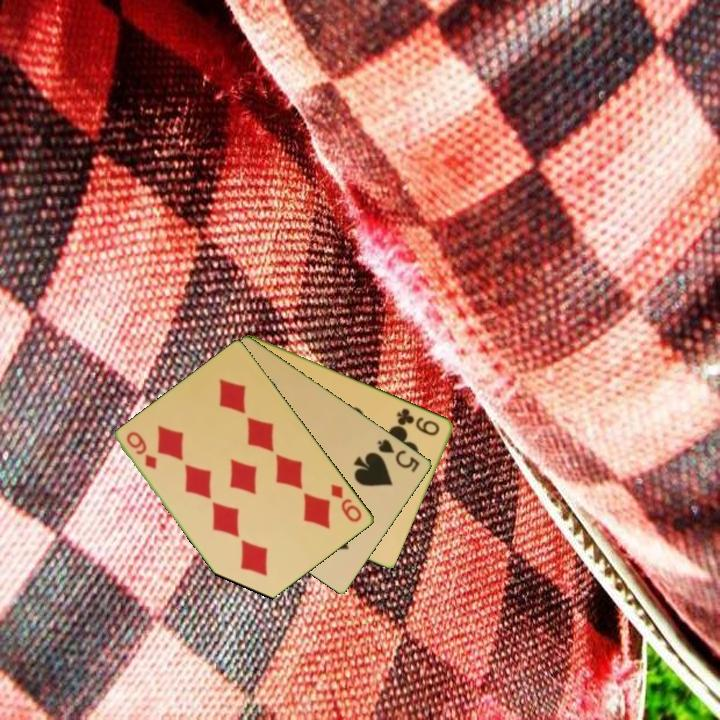5s: (374, 435, 423, 475)
9c: (393, 404, 443, 439)
9d: (327, 480, 365, 525), (123, 428, 160, 472)
